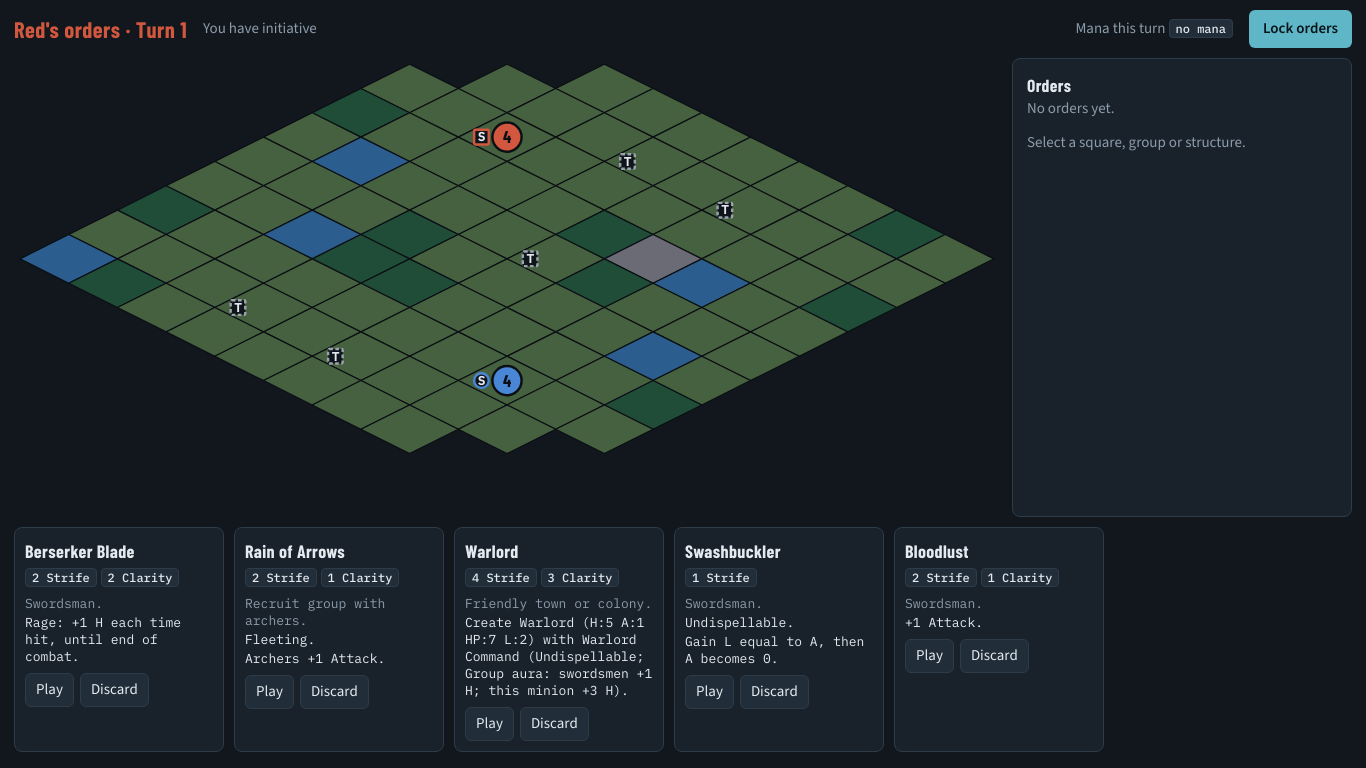
OrdersScreen › marks a hand card for discard
Click the button named "Discard Warlord": x=554, y=724 [520,707,589,741]
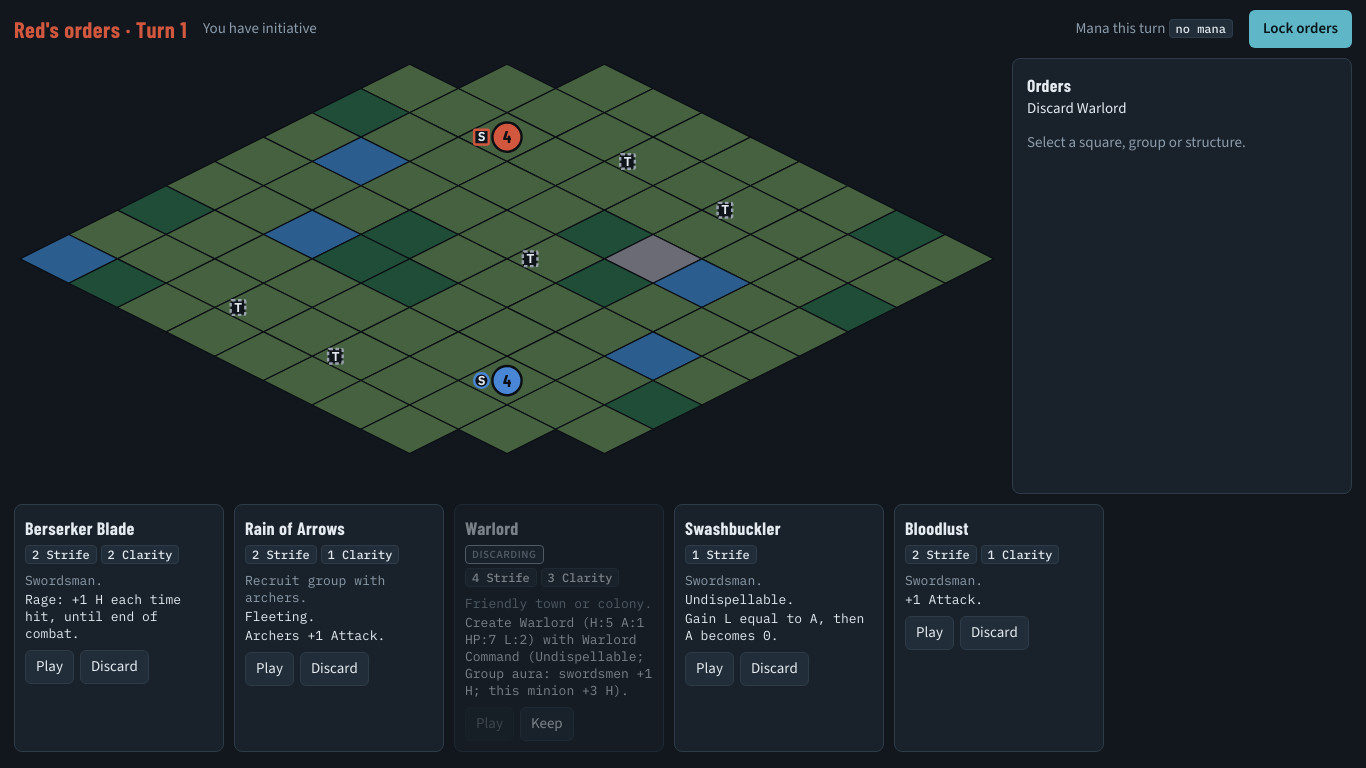
Expected: the list item "Discard Warlord" is shown, [1027,98,1126,118]
